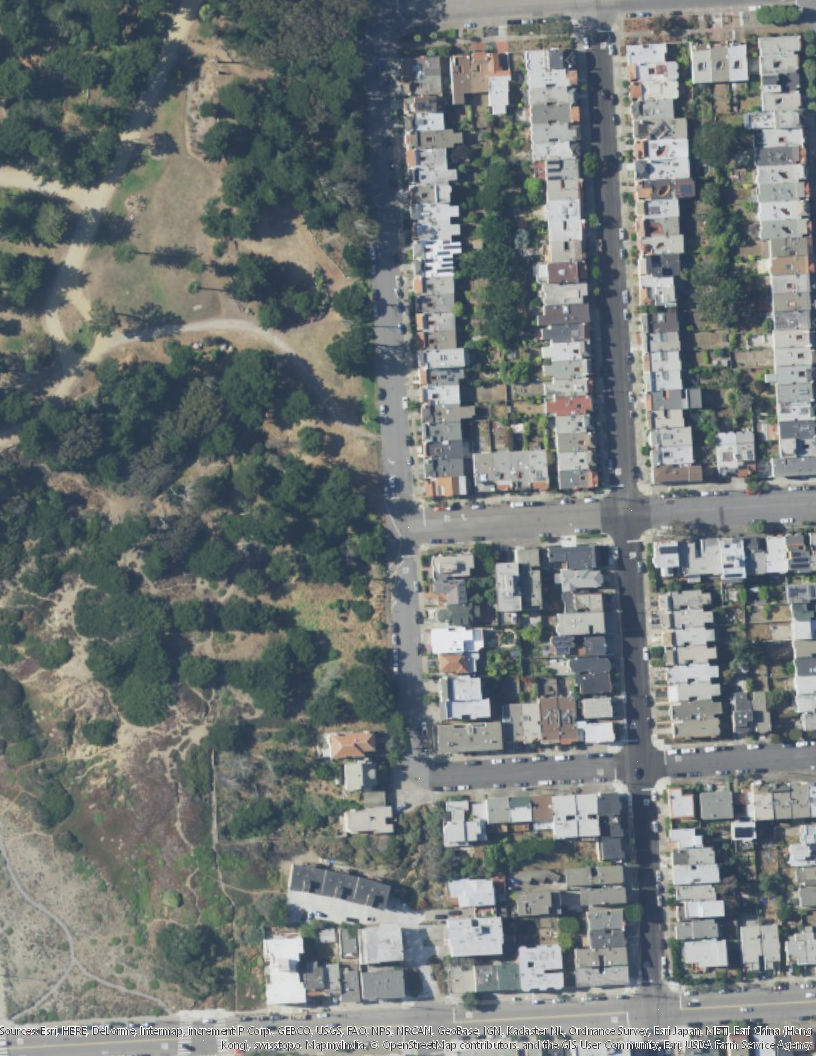zebracross: (212, 1019, 231, 1053), (177, 1020, 191, 1054)
